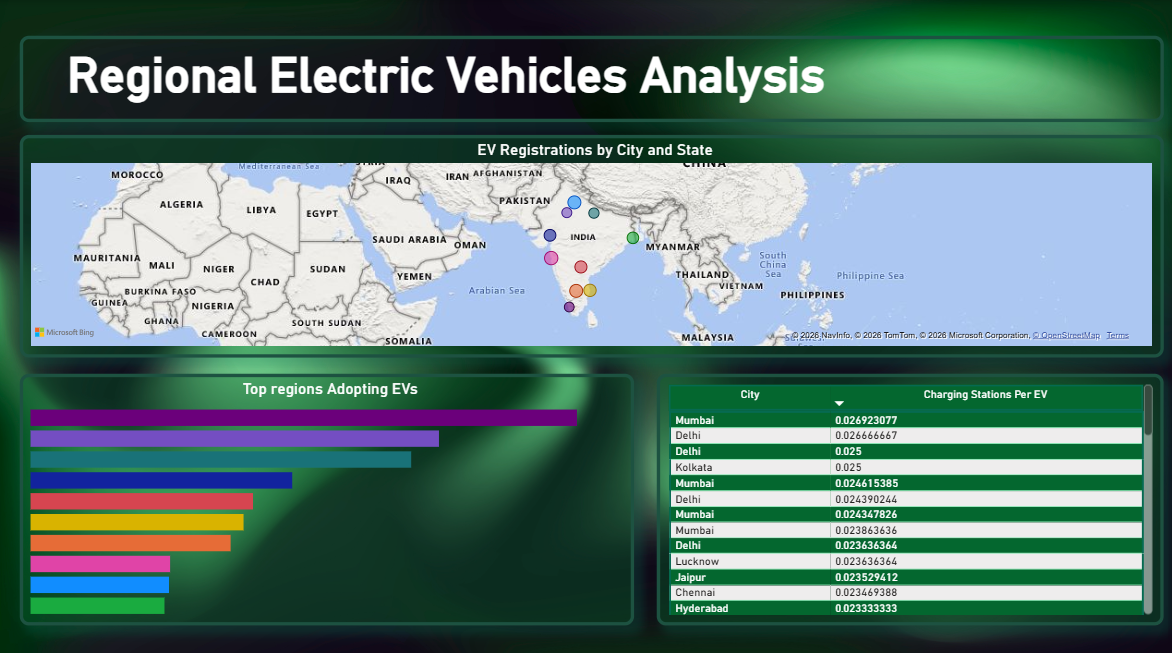

The page's visual inventory and layout, read from the dashboard file:
{"tool":"powerbi","page":{"name":"Regional EV Analysis","canvas":[1280,720],"ordinal":1},"visuals":[{"type":"textbox","box":[24.6,38.7,1238.7,93.3],"z":0},{"type":"barChart","title":"Top regions Adopting EVs","fields":{"Category":["Electric Vehicles.City"],"Series":["Electric Vehicles.State"],"Y":["Sum(Electric Vehicles.EV Adoption Rate)"]},"box":[24.6,404.7,665.1,272.7],"z":1000},{"type":"tableEx","title":"Charging Stations By Region","fields":{"Values":["Electric Vehicles.City","Electric Vehicles.Charging Stations Per EV"]},"box":[714.3,404.7,548.9,272.7],"z":2000},{"type":"map","title":" EV Registrations by City and State","fields":{"Size":["Sum(Electric Vehicles.EV Registrations)"],"Category":["Electric Vehicles.City"],"Series":["Electric Vehicles.State"]},"box":[24.6,146,1238.7,241],"z":3000}]}

Visuals, with their boxes in screenshot pixels (x1, y1, x2, y2), scaled from the page's 1280x720 canvas onto the 1172x653 screenshot:
textbox: x1=23 y1=35 x2=1157 y2=120
"Top regions Adopting EVs" barChart: x1=23 y1=367 x2=632 y2=614
"Charging Stations By Region" tableEx: x1=654 y1=367 x2=1157 y2=614
" EV Registrations by City and State" map: x1=23 y1=132 x2=1157 y2=351
